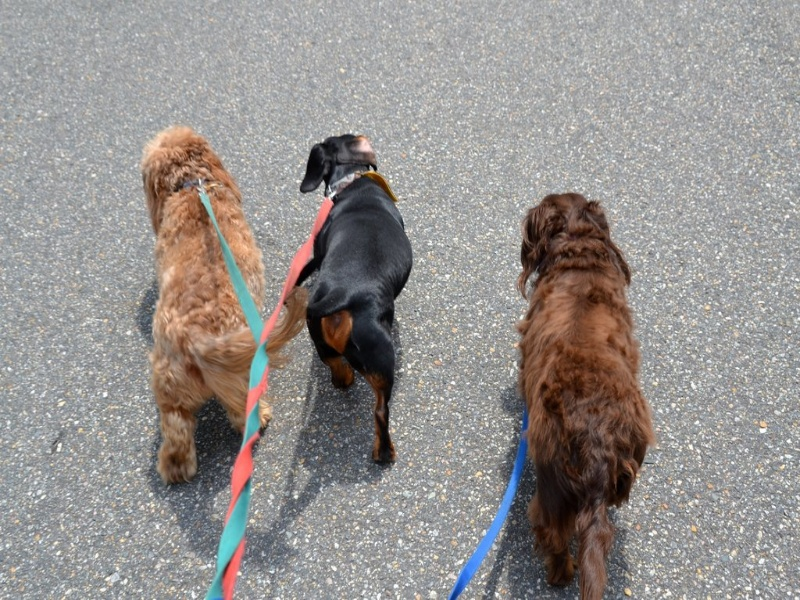dog: (513, 188, 655, 589), (133, 117, 262, 479), (295, 128, 414, 476)
